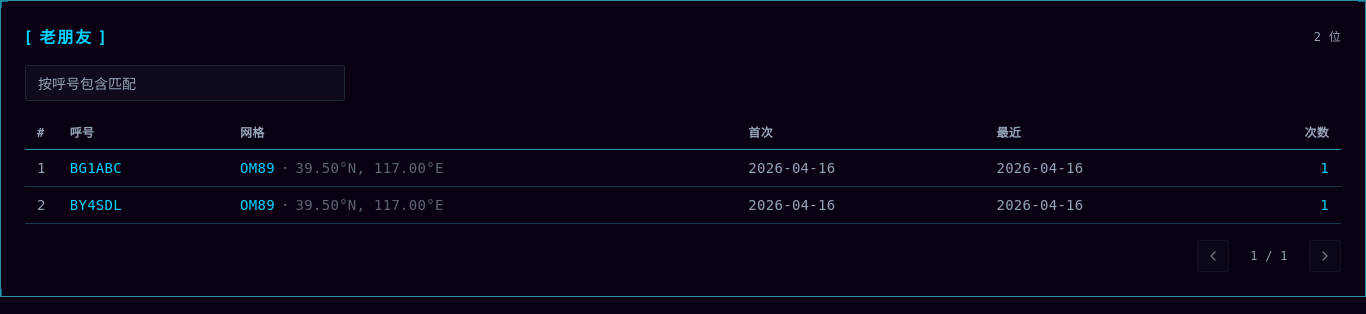
Test: OldFriendsView › 搜索过滤按包含匹配
This screenshot has width=1366, height=314.
In the field named "过滤呼号": (185, 83) 25,65 -> 345,101, type "bg"
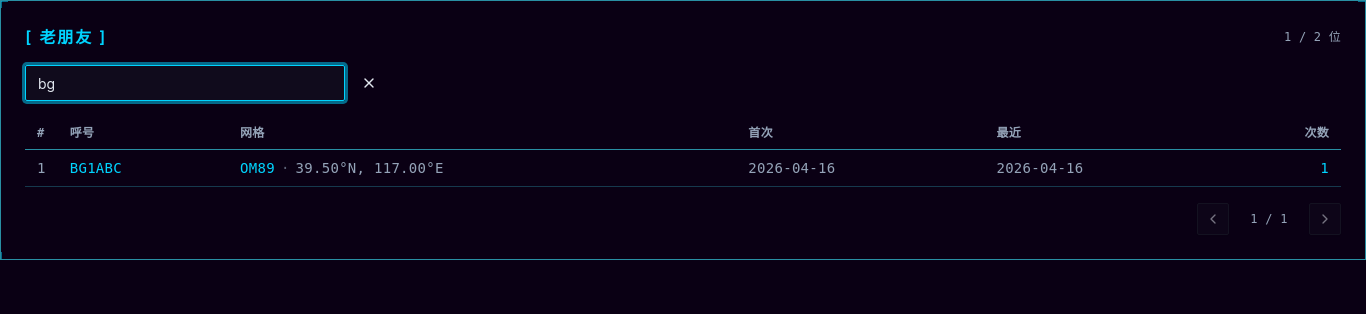
Expected: the text "BG1ABC" is shown, 70,158 -> 122,178
Now the text "BY4SDL" is gone
Now the text "1 / 2 位" is shown, box 1284,29 -> 1341,45
